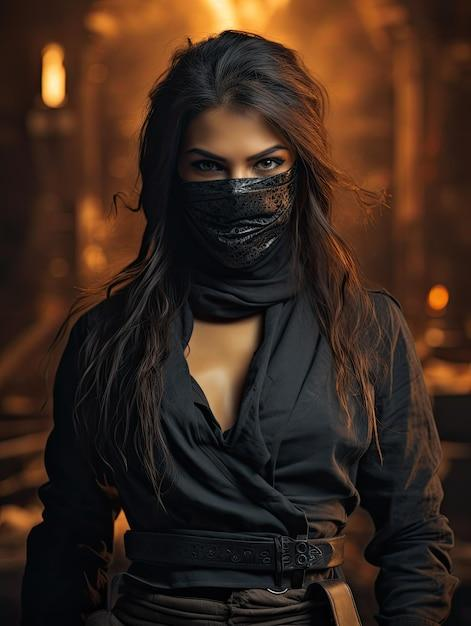scarf-kerchief: (150, 152, 328, 323)
